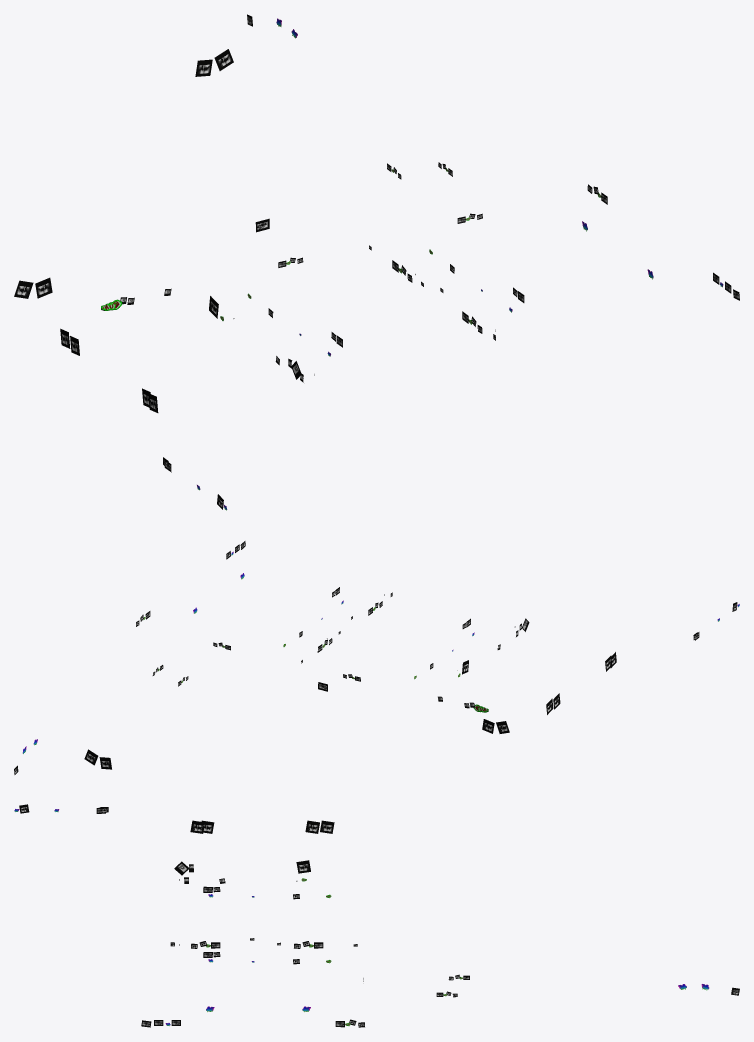
Rendered from Grafittis.fbx.
3 views of the same model, one above another, from view 1: azimuth 30°, elevation 25°; view 2: azimuth 150°, elevation 25°; view 3: azimuth 270°, elevation 25° (orthographic). The views are drawn at different scales.
Bounding box in the file's own units: 18613 × 859 × 26567.
7 materials, 7 textured.
